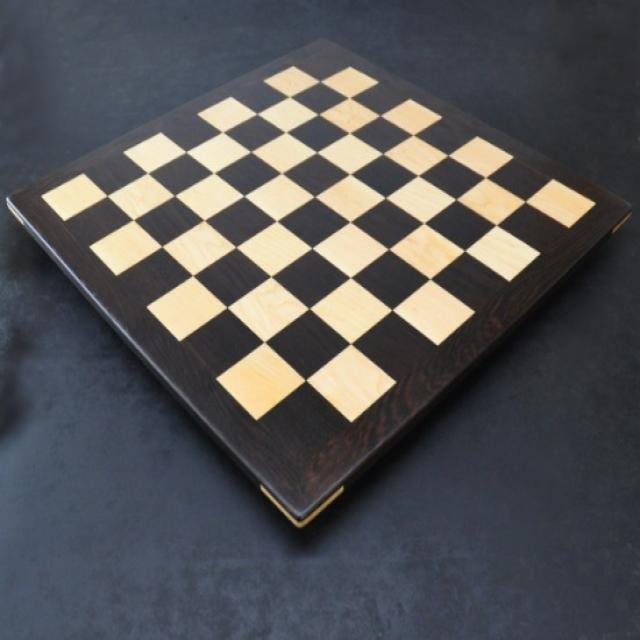chess-table-corners: (570, 189, 606, 221), (31, 184, 52, 211)
